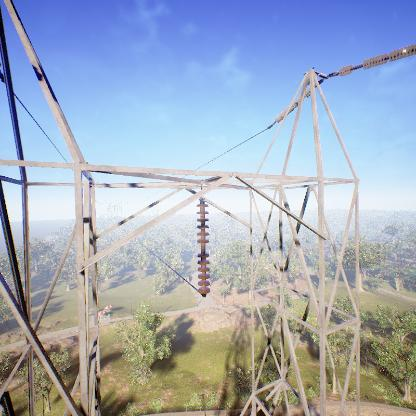insulator: (193, 202, 212, 297)
